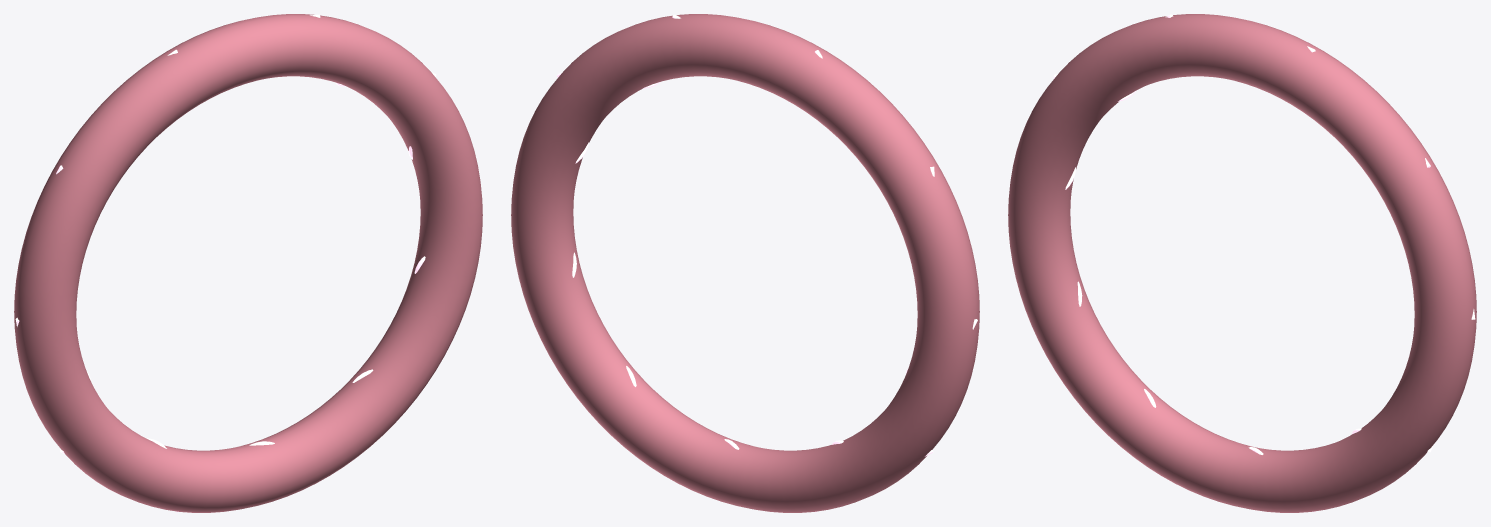
File: S12_Vessel_Ring.glb
The picture shows the model from 3 angles, left to right: view 1: azimuth 30°, elevation 25°; view 2: azimuth 150°, elevation 25°; view 3: azimuth 330°, elevation 25°; orthographic projection.
Parts seen in each view (by area): view 1: S12_Vessel_Ring_Mesh; view 2: S12_Vessel_Ring_Mesh; view 3: S12_Vessel_Ring_Mesh.
Boxes of the visible parts, x1,y1,x2,y2 form: S12_Vessel_Ring_Mesh: (14, 14, 482, 512); S12_Vessel_Ring_Mesh: (511, 14, 979, 512); S12_Vessel_Ring_Mesh: (1008, 14, 1476, 512).
Bounding box in the file's own units: 20.59 × 20.4 × 2.4.
